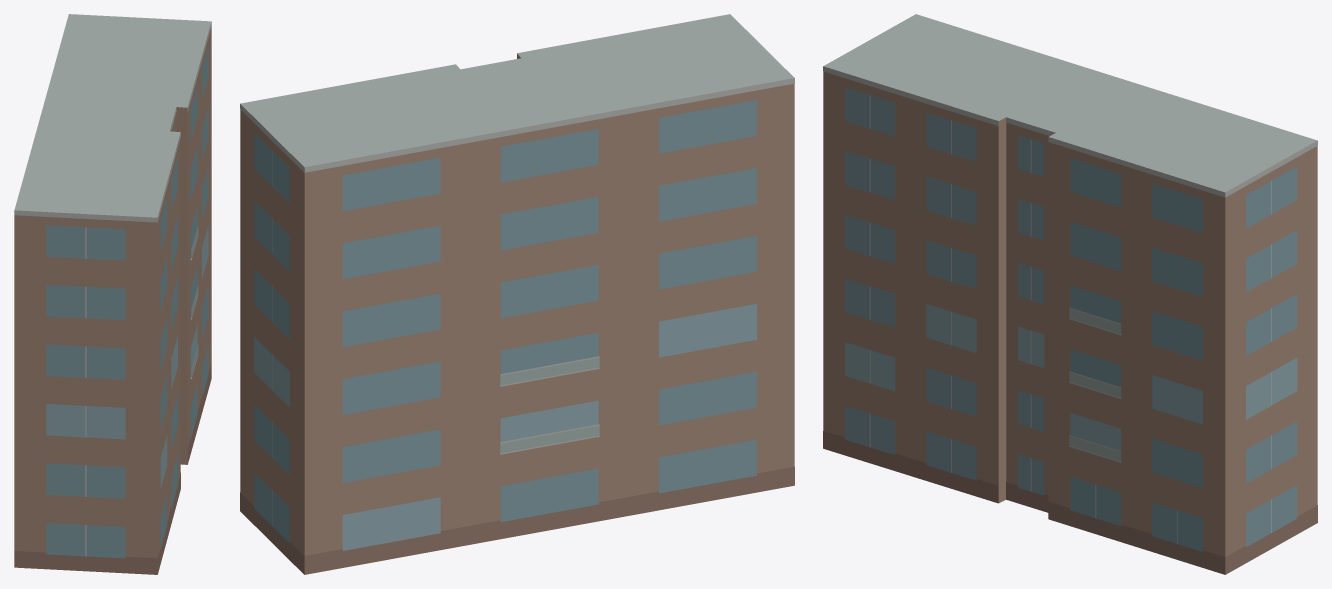
File: survey-upis-32640457.glb
3 views of the same model, side by side, from view 1: azimuth 30°, elevation 25°; view 2: azimuth 150°, elevation 25°; view 3: azimuth 270°, elevation 25° (orthographic). The views are drawn at different scales.
Parts seen in each view (by area): view 1: survey-upis-32640457.tmp; view 2: survey-upis-32640457.tmp; view 3: survey-upis-32640457.tmp.
Boxes of the visible parts, box(x1,y1,x2,y2) form: survey-upis-32640457.tmp: box(14, 14, 211, 574); survey-upis-32640457.tmp: box(240, 14, 794, 574); survey-upis-32640457.tmp: box(823, 14, 1317, 574).
Size of the model in its own units: 18.13 by 18.1 by 21.23.
